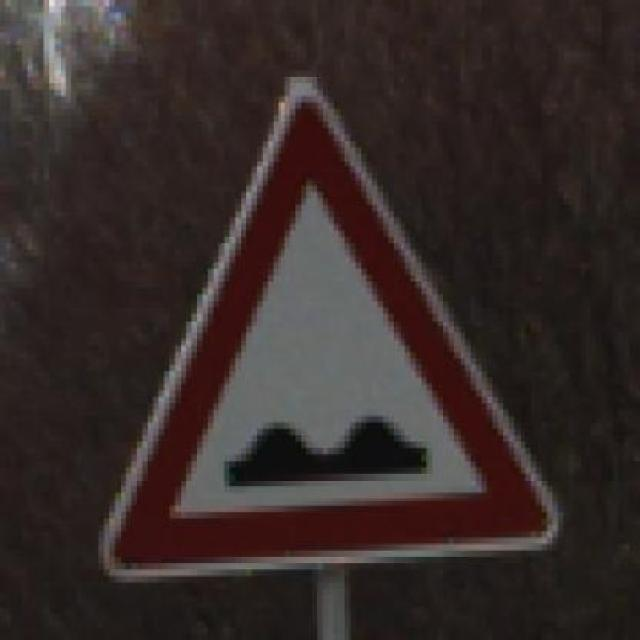Uneven Road: (82, 77, 569, 589)
